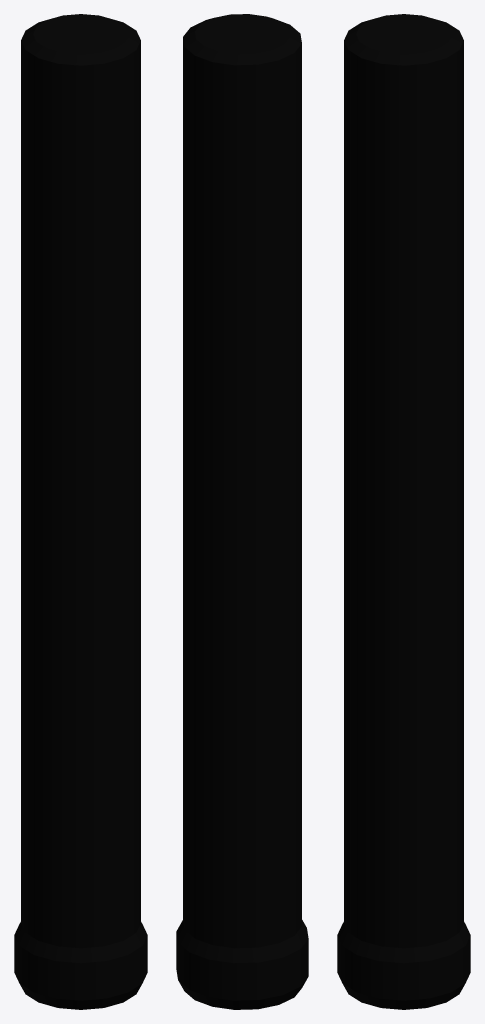
Rendered from Libra_Leg_1_Upper.obj.
3 renders of one model, left to right at view 1: azimuth 90°, elevation 25°; view 2: azimuth 150°, elevation 25°; view 3: azimuth 270°, elevation 25°, orthographic.
Parts seen in each view (by area): view 1: Libra_Leg_1_Upper; view 2: Libra_Leg_1_Upper; view 3: Libra_Leg_1_Upper.
Boxes of the visible parts, x1,y1,x2,y2 form: Libra_Leg_1_Upper: (14, 14, 147, 1009); Libra_Leg_1_Upper: (176, 14, 308, 1009); Libra_Leg_1_Upper: (337, 14, 470, 1009).
Bounding box in the file's own units: 0.1 × 0.786 × 0.1.
Materials: 1 (1 with a texture image).
